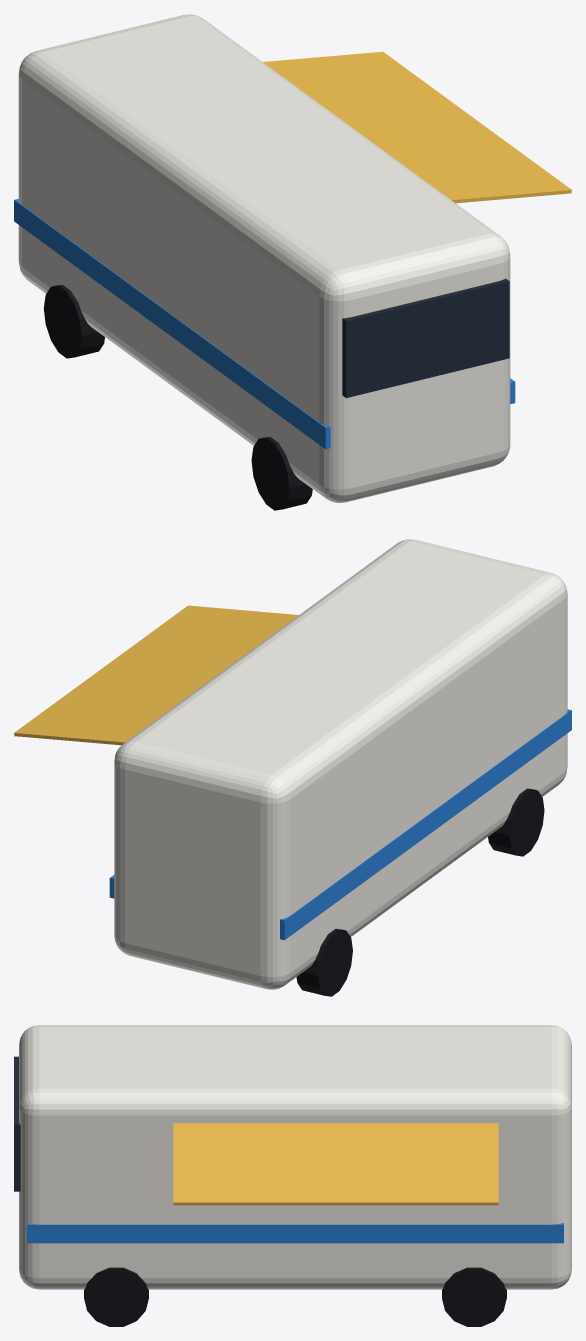
Rendered from campervan_a.glb.
3 renders of one model, top to bottom at view 1: azimuth 30°, elevation 25°; view 2: azimuth 150°, elevation 25°; view 3: azimuth 270°, elevation 25°, orthographic. The views are drawn at different scales.
Visible parts, largest first — view 1: camper; view 2: camper; view 3: camper.
Part boxes in pixels (box(x1,y1,x2,y2)): camper: box(14, 14, 571, 510); camper: box(14, 539, 571, 996); camper: box(14, 1025, 571, 1326).
Size of the model in its own units: 4.09 by 3.09 by 6.86.
